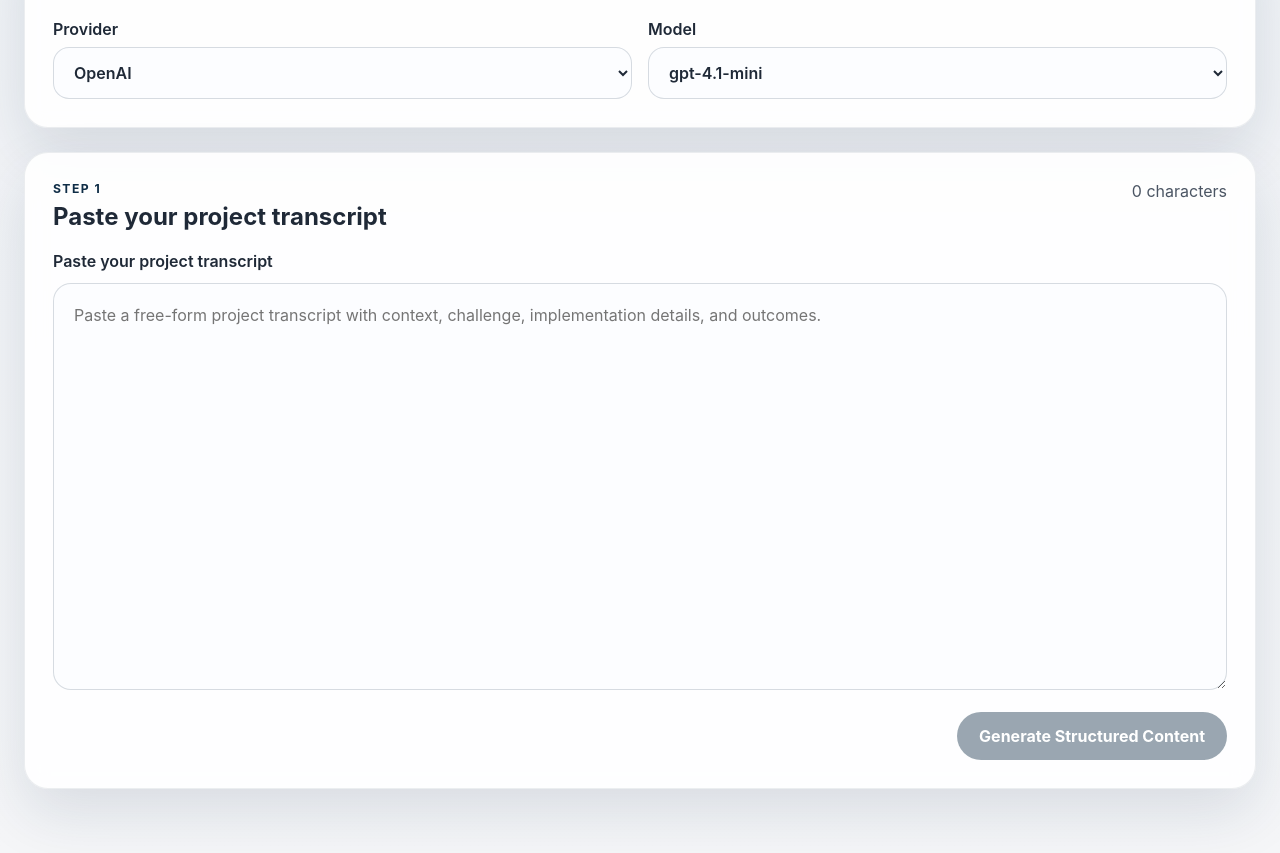
Test: AppShell provider selection › renders step 2 immediately and populates the first completed section while generation continues
(page scrolled)
Replace the text in the text box labelled "Paste your project transcript" with "transcript" at (640, 487), box [53,283,1227,690]
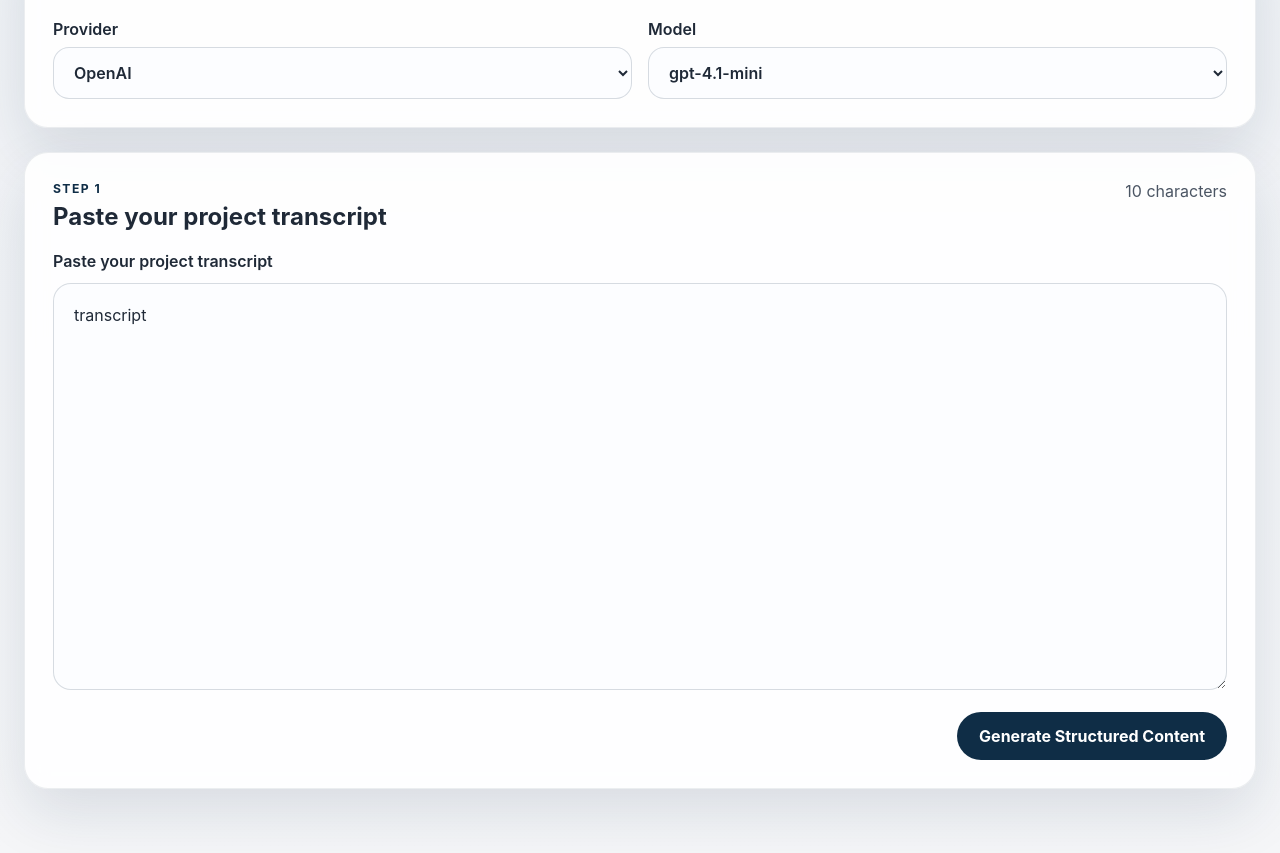
Click the button "Generate Structured Content" at (1092, 736), box [957,712,1227,760]
(page scrolled)
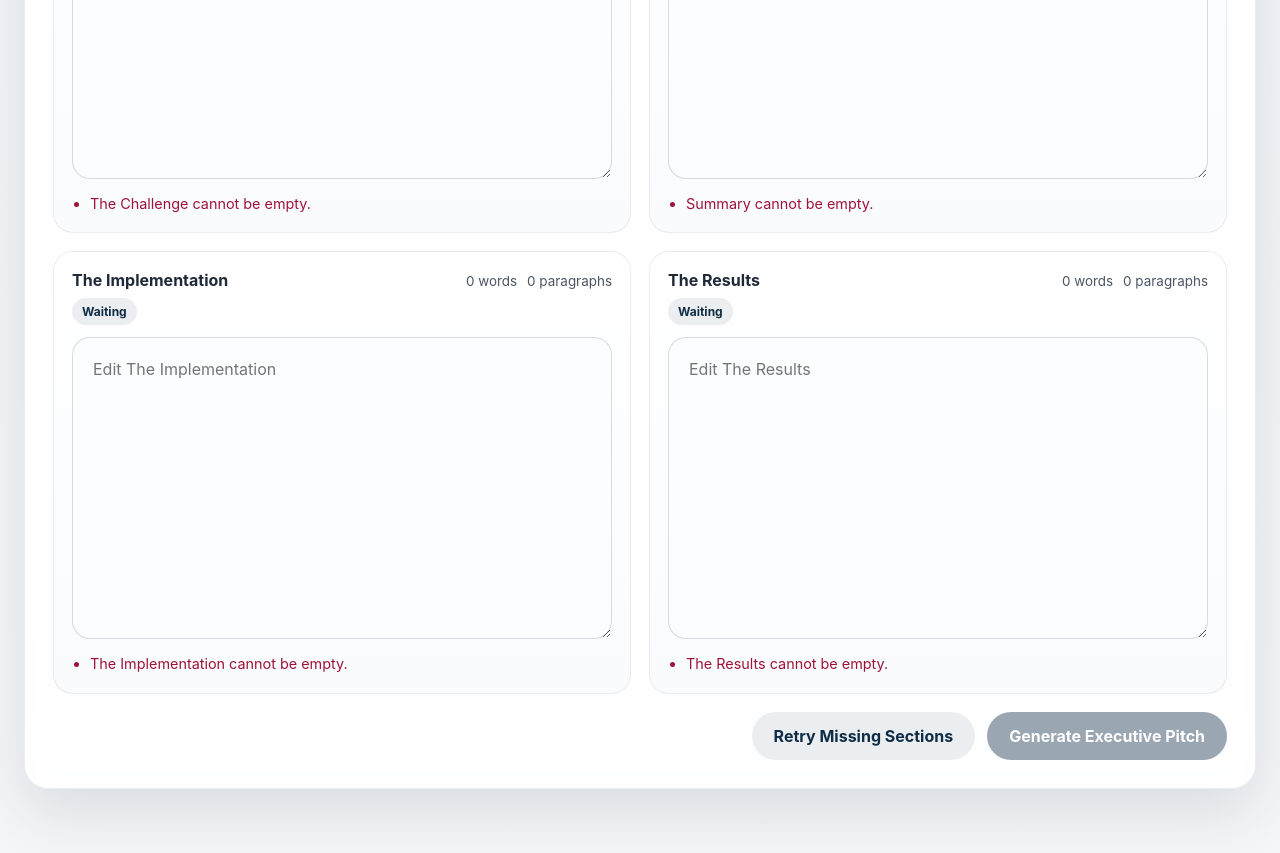
expect the button "Generate Executive Pitch" is disabled: met, box [987,712,1227,760]
